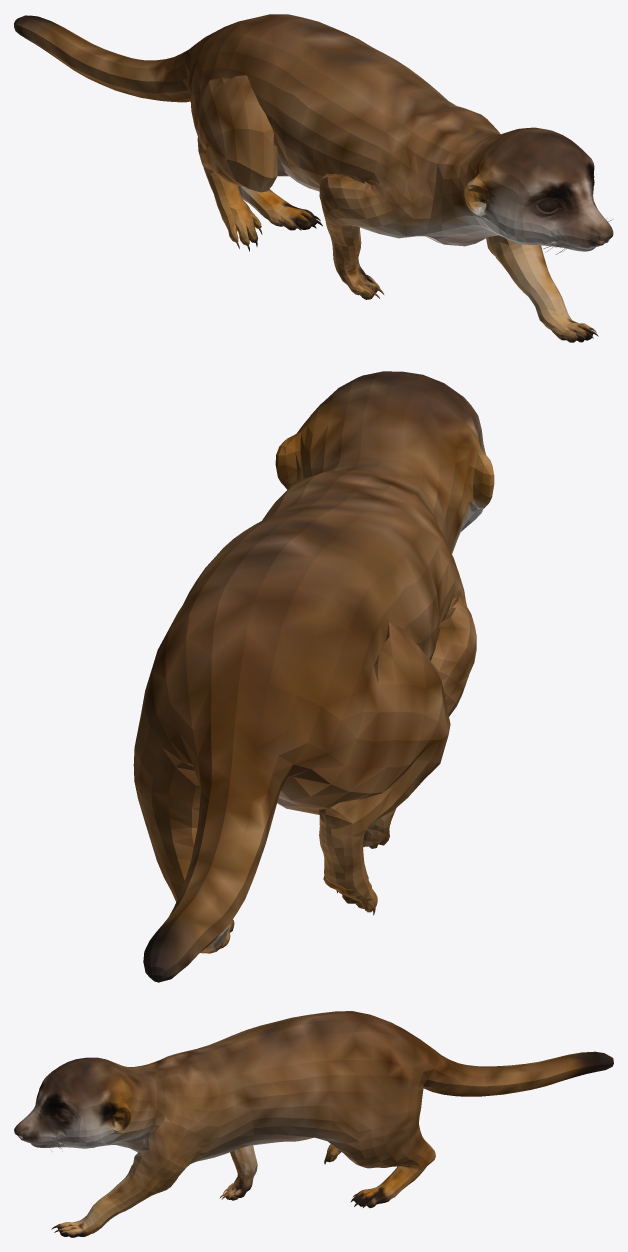
Rendered from meerkat.mesh.glb.
The picture shows the model from 3 angles, top to bottom: view 1: azimuth 30°, elevation 25°; view 2: azimuth 150°, elevation 25°; view 3: azimuth 270°, elevation 25°; orthographic projection. The views are drawn at different scales.
Visible parts, largest first — view 1: root; view 2: root; view 3: root.
Boxes of the visible parts, x1,y1,x2,y2 form: root: [14, 14, 613, 342]; root: [133, 371, 494, 982]; root: [14, 1011, 613, 1237].
Size of the model in its own units: 0.3406 by 0.2988 by 0.9113.
1 material, 1 textured.
